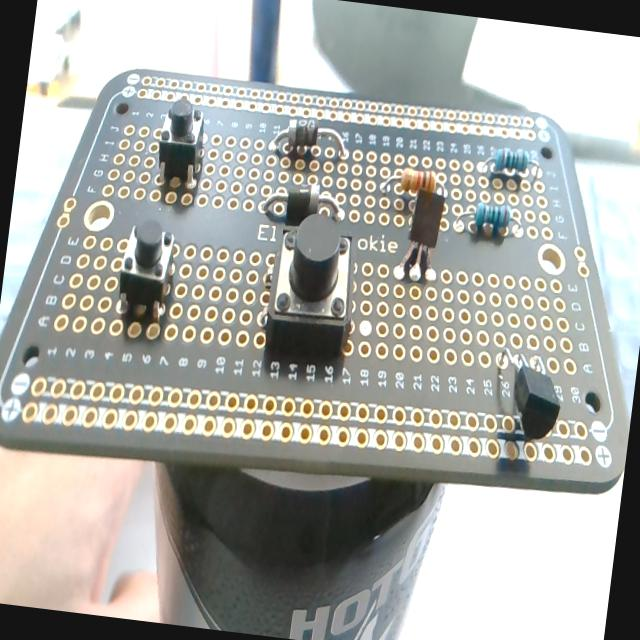diode: (258, 180, 344, 232), (270, 114, 352, 165)
resistor: (472, 198, 512, 236), (399, 166, 436, 196), (494, 144, 530, 174)
switch: (260, 210, 363, 360), (112, 216, 178, 331), (153, 96, 210, 192)
transistor: (488, 342, 570, 452), (396, 184, 448, 286)
